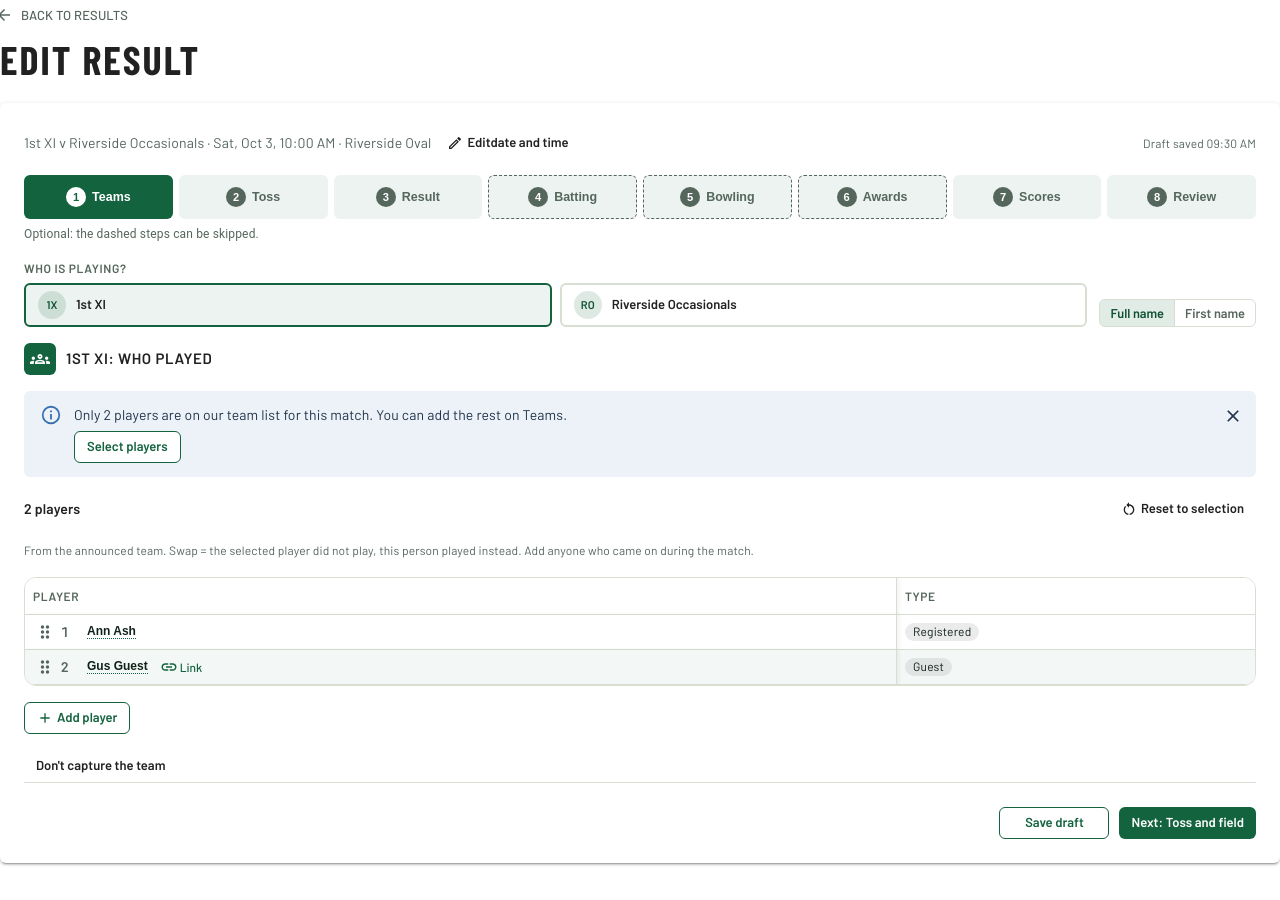
Teams step: guest rows › opens the Link to player picker with the New player tab
Check: the heading "Edit result" is shown, box [0,35,200,83]
Click the button "1 Teams" at [98, 197], box [24,175,173,219]
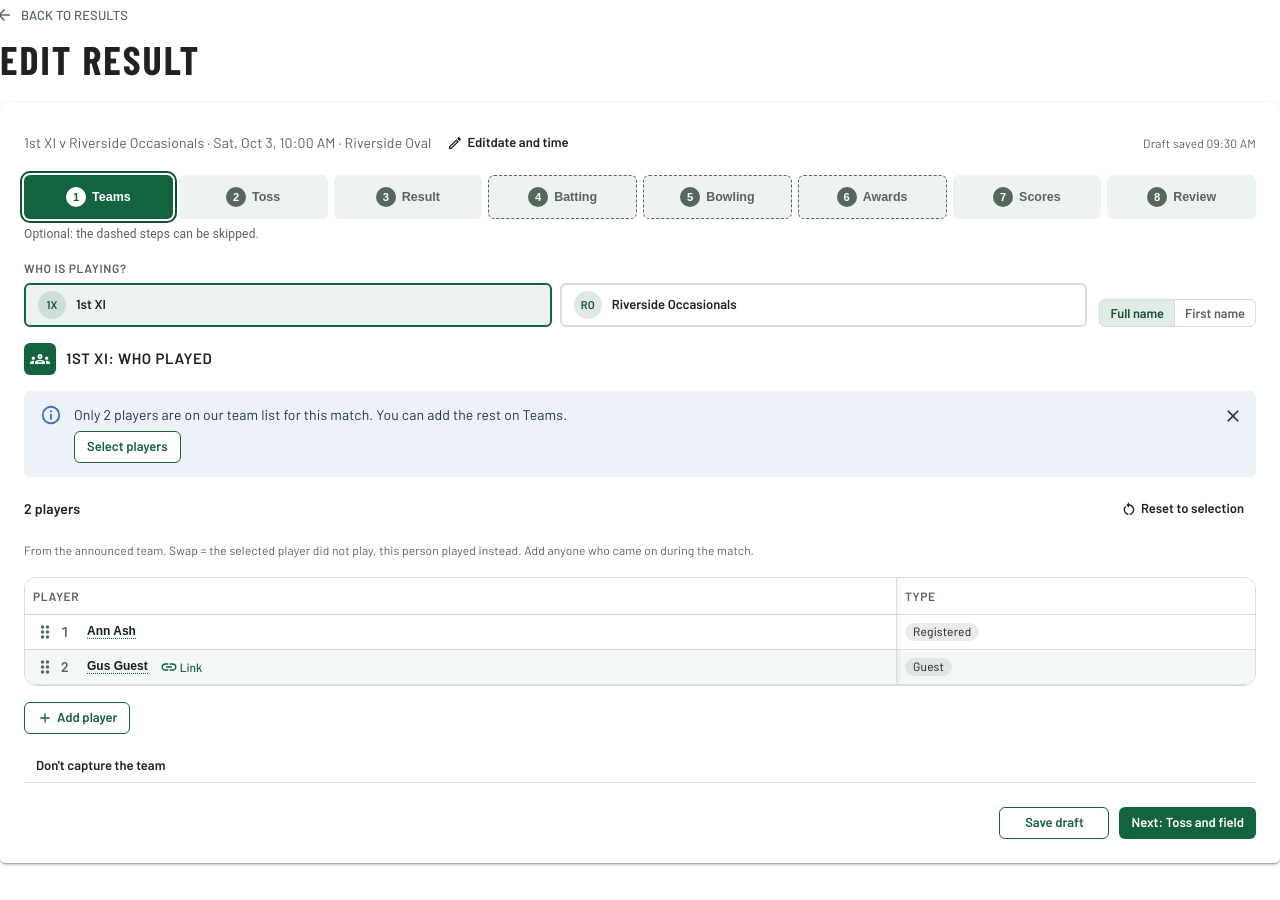
Check: the text "Gus Guest" is shown, box [87,659,148,674]
Click the button "Link" at [181, 667], box [154,655,208,679]
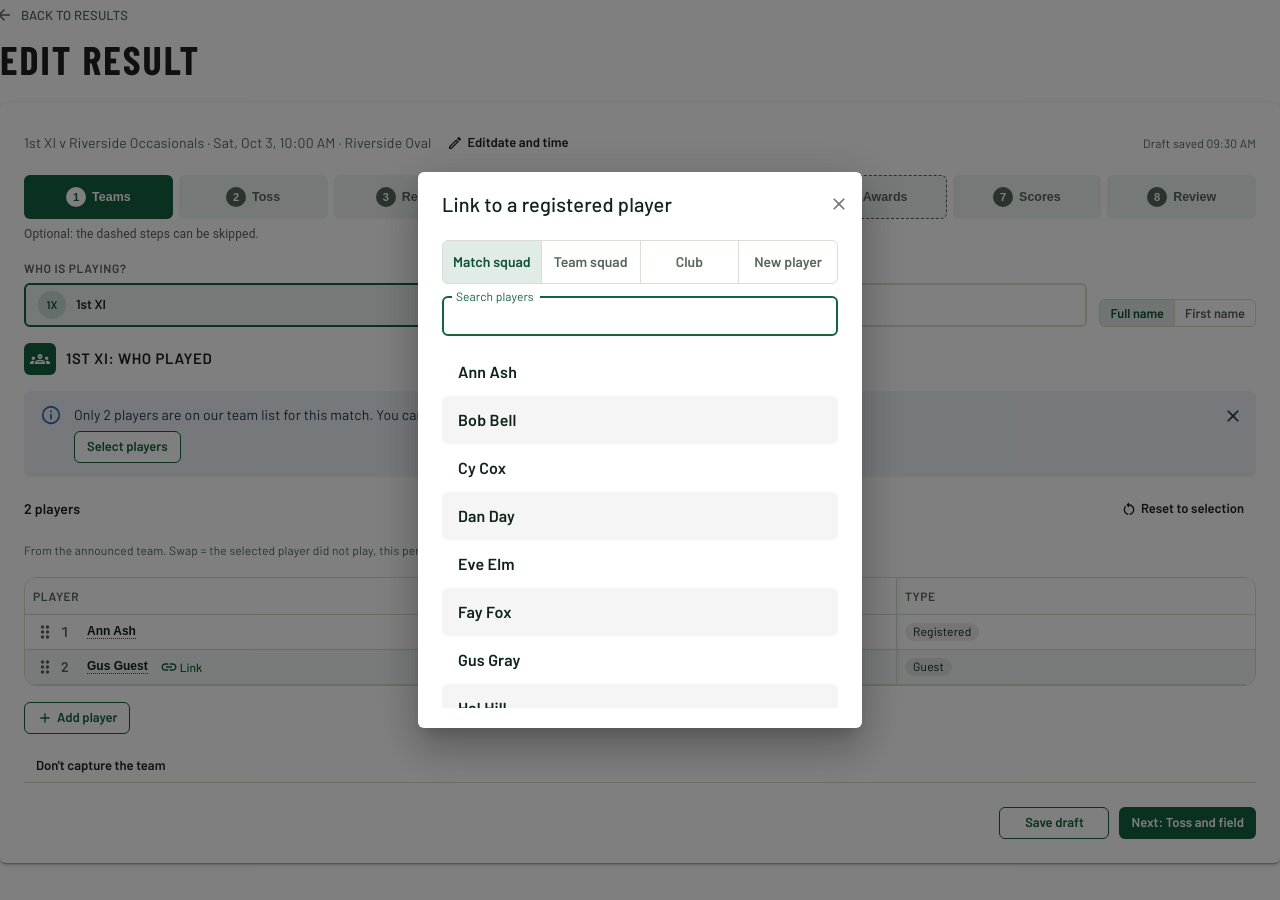
Check: the button labelled "New player" is shown, box [738,240,838,284]
Click the button "Club" at [689, 262], box [640,240,739,284]
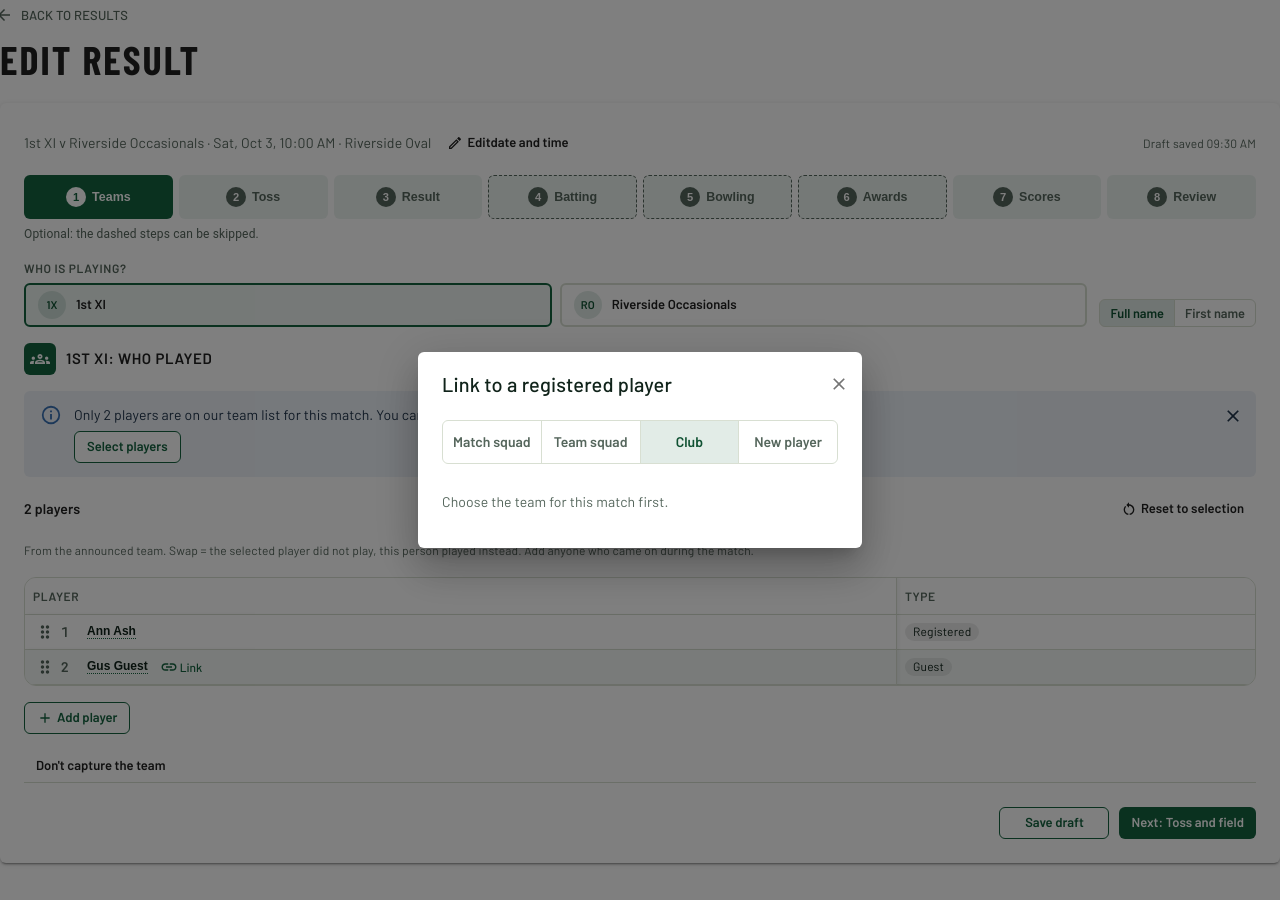
Check: the text "Choose the team for this match first." is shown, box [442,493,668,510]
